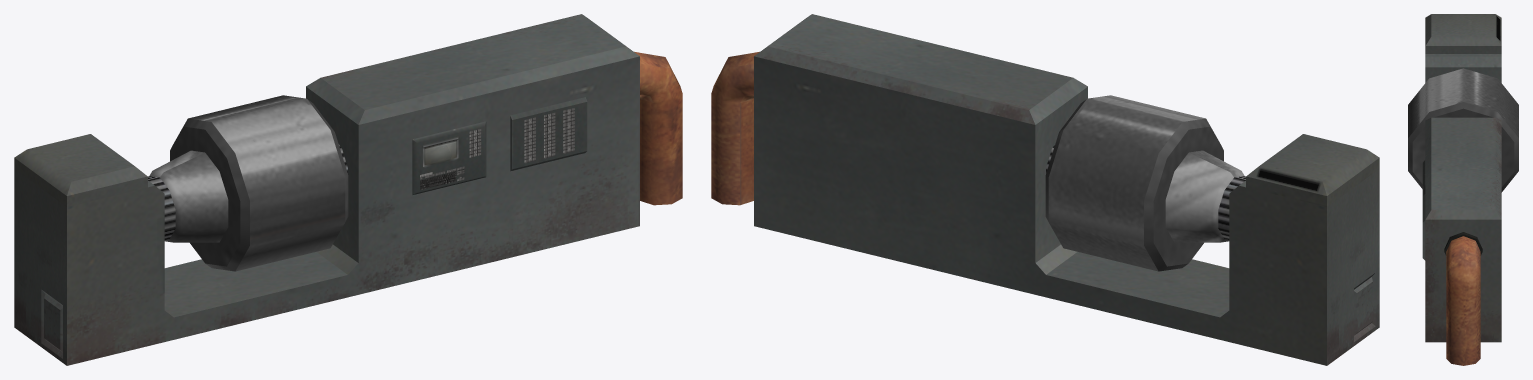
Rendered from ResearchGenerator.fbx.
3 views of the same model, side by side, from view 1: azimuth 30°, elevation 25°; view 2: azimuth 150°, elevation 25°; view 3: azimuth 270°, elevation 25° (orthographic). The views are drawn at different scales.
Visible parts, largest first — view 1: Generator, Generator_Turbine; view 2: Generator, Generator_Turbine; view 3: Generator, Generator_Turbine.
Part boxes in pixels (box(x1,y1,x2,y2)): Generator: box(14, 14, 682, 365); Generator_Turbine: box(148, 95, 348, 271); Generator: box(711, 14, 1379, 365); Generator_Turbine: box(1045, 95, 1245, 271); Generator: box(1422, 14, 1501, 365); Generator_Turbine: box(1408, 68, 1518, 192).
Size of the model in its own units: 515 by 141 by 107.
